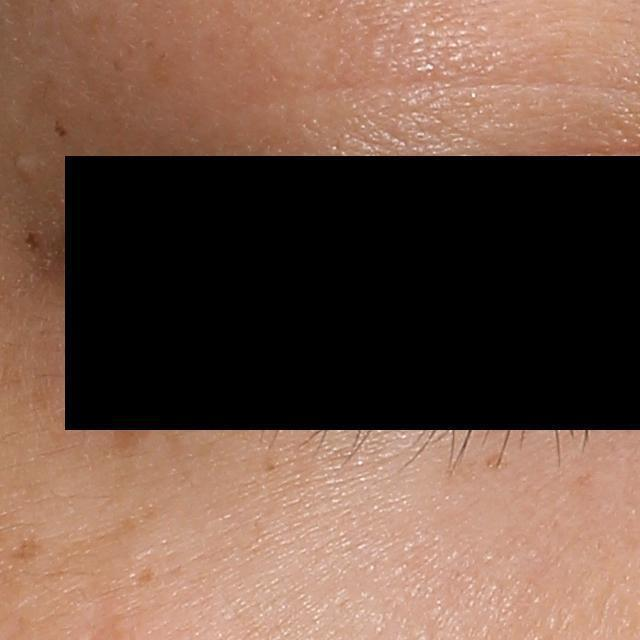comedo: (12, 149, 43, 186)
melasma: (44, 501, 161, 580), (105, 400, 162, 464), (12, 535, 47, 561), (130, 565, 161, 590)
nevus: (53, 119, 69, 139)
